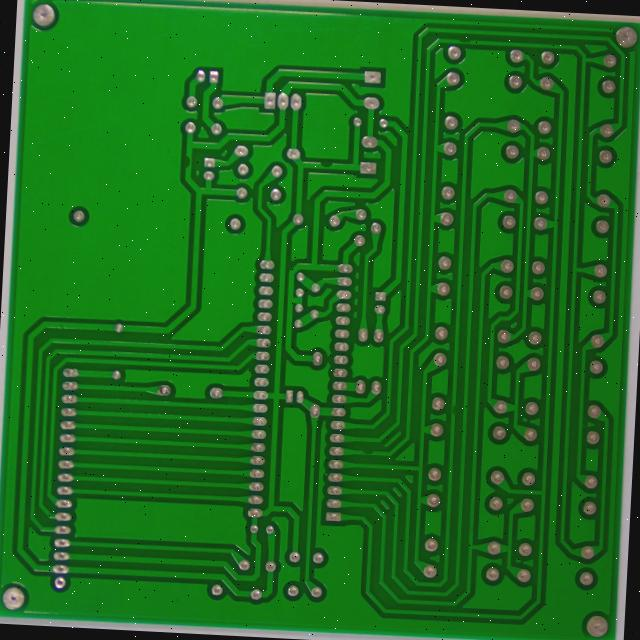mouse_bite: (514, 463, 531, 490), (361, 185, 386, 203), (524, 41, 549, 59), (204, 177, 221, 201), (411, 518, 434, 534)
